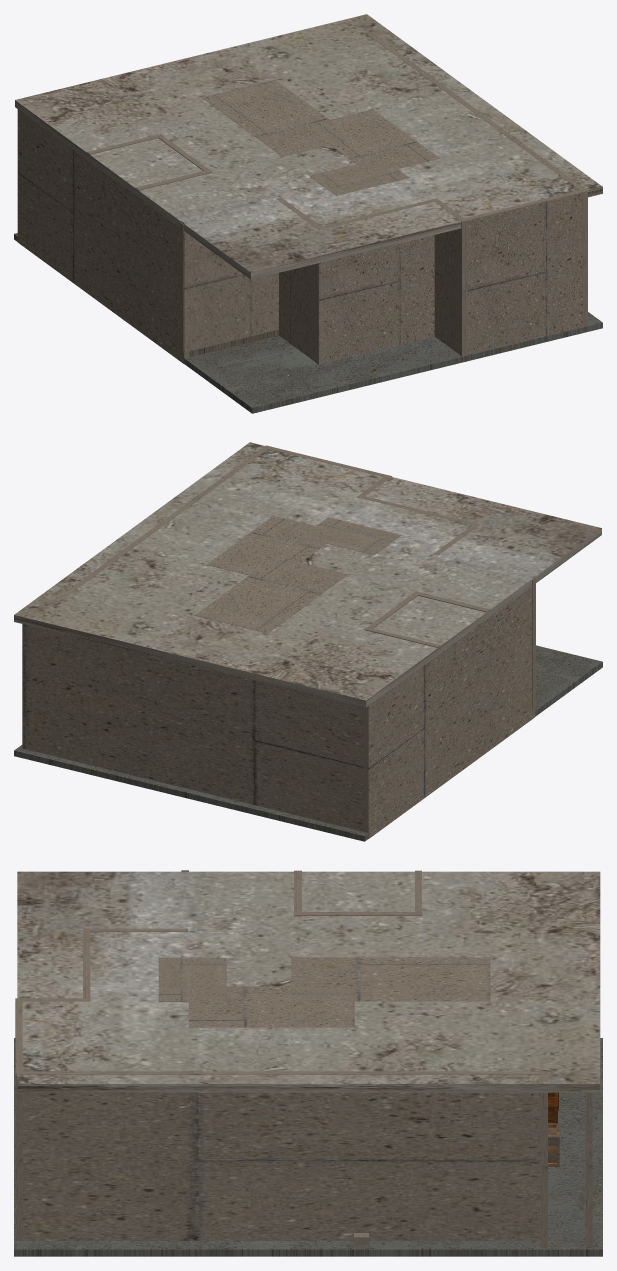
Rendered from area4.dae.
3 renders of one model, top to bottom at view 1: azimuth 30°, elevation 25°; view 2: azimuth 150°, elevation 25°; view 3: azimuth 270°, elevation 25°, orthographic. The views are drawn at different scales.
Visible parts, largest first — view 1: ceiling, outer walls, inner walls, floor; view 2: ceiling, outer walls, inner walls, floor; view 3: ceiling, outer walls, inner walls, floor, crotes.
Part boxes in pixels (x1,y1,x2,y2): ceiling: [15, 14, 602, 279]; outer walls: [17, 30, 587, 364]; inner walls: [87, 80, 439, 363]; floor: [14, 233, 602, 413]; ceiling: [14, 442, 601, 707]; outer walls: [22, 445, 535, 838]; inner walls: [195, 515, 535, 718]; floor: [14, 645, 602, 841]; ceiling: [17, 871, 600, 1092]; outer walls: [15, 928, 592, 1248]; inner walls: [158, 870, 490, 1244]; floor: [14, 1038, 602, 1256]; crotes: [548, 1123, 559, 1166].
Bounding box in the file's own units: 151 × 176 × 57.68.
Materials: 20 (20 with a texture image).
